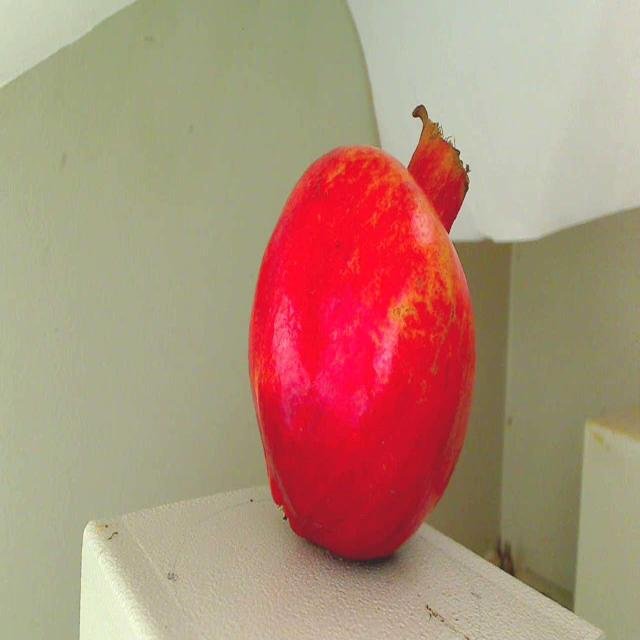pomegranate: (236, 89, 500, 580)
